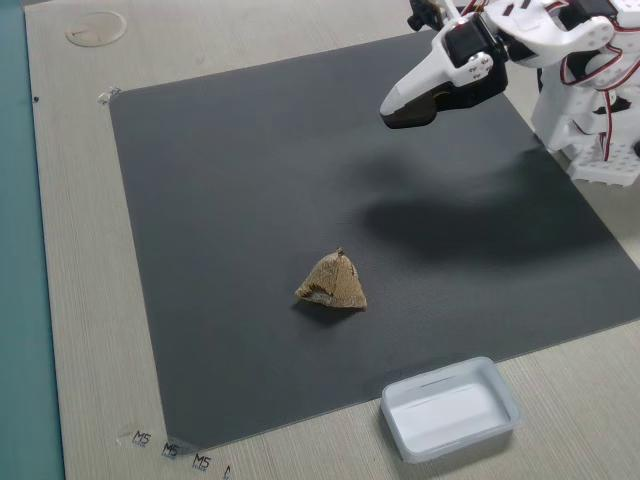gripper: (354, 9, 497, 134)
